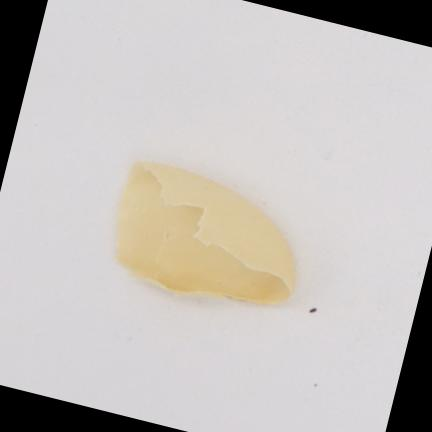parchment: (118, 162, 295, 303)
